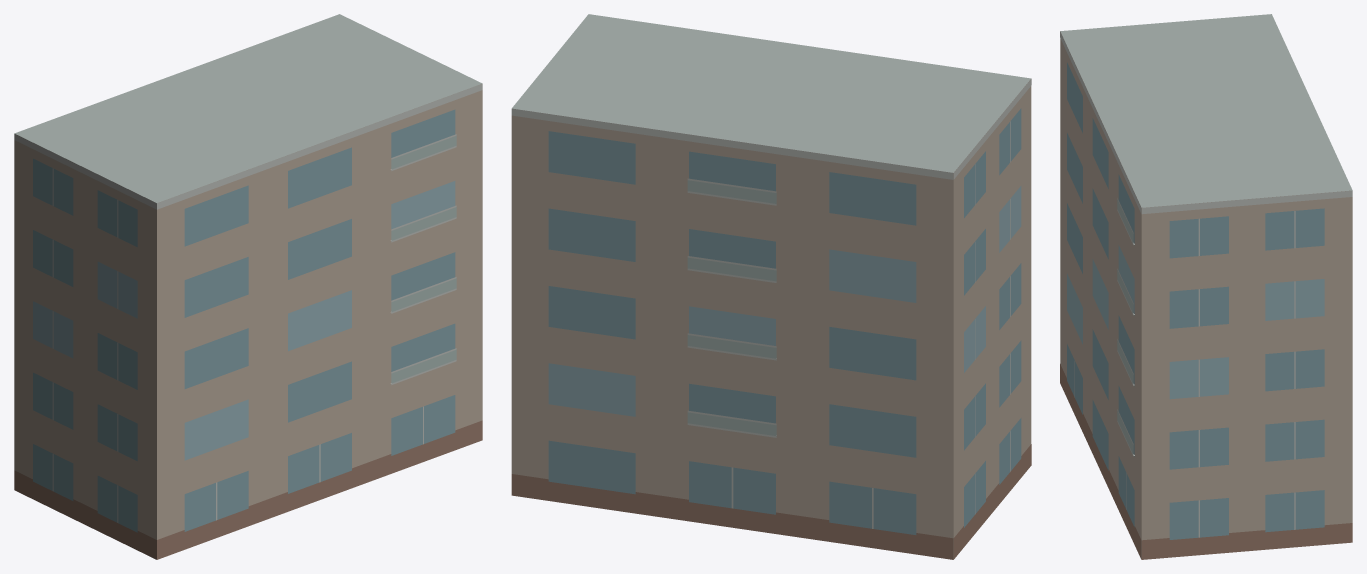
The model's file is survey-upis-32946429.glb.
3 views of the same model, side by side, from view 1: azimuth 30°, elevation 25°; view 2: azimuth 150°, elevation 25°; view 3: azimuth 270°, elevation 25° (orthographic). The views are drawn at different scales.
Parts seen in each view (by area): view 1: survey-upis-32946429.tmp; view 2: survey-upis-32946429.tmp; view 3: survey-upis-32946429.tmp.
Part boxes in pixels (x1,y1,x2,y2): survey-upis-32946429.tmp: (14,14,482,559); survey-upis-32946429.tmp: (511,14,1031,559); survey-upis-32946429.tmp: (1060,14,1352,559).
Size of the model in its own units: 15.83 by 13.4 by 10.1.
